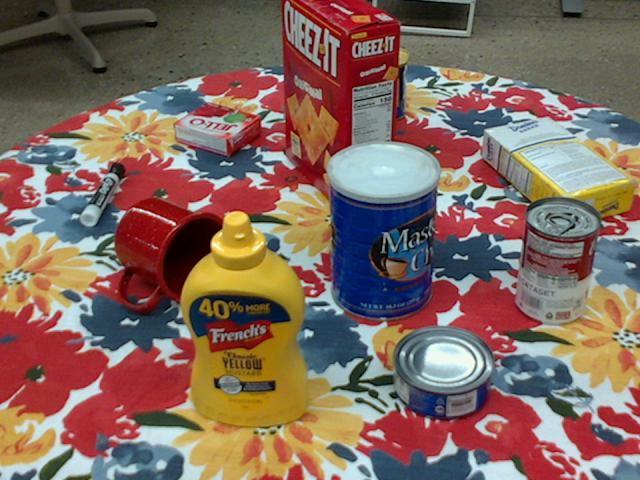cracker_box: (282, 0, 400, 211)
gelatin_box: (172, 102, 261, 157)
large_marker: (79, 161, 124, 225)
master_chef_can: (326, 141, 439, 323)
mug: (112, 198, 231, 311)
mustard_bottle: (178, 211, 307, 426)
potted_meat_can: (332, 43, 410, 119)
sugar_box: (483, 115, 635, 229)
tomato_soup_can: (516, 196, 600, 324)
tuna_fish_can: (389, 326, 491, 421)
